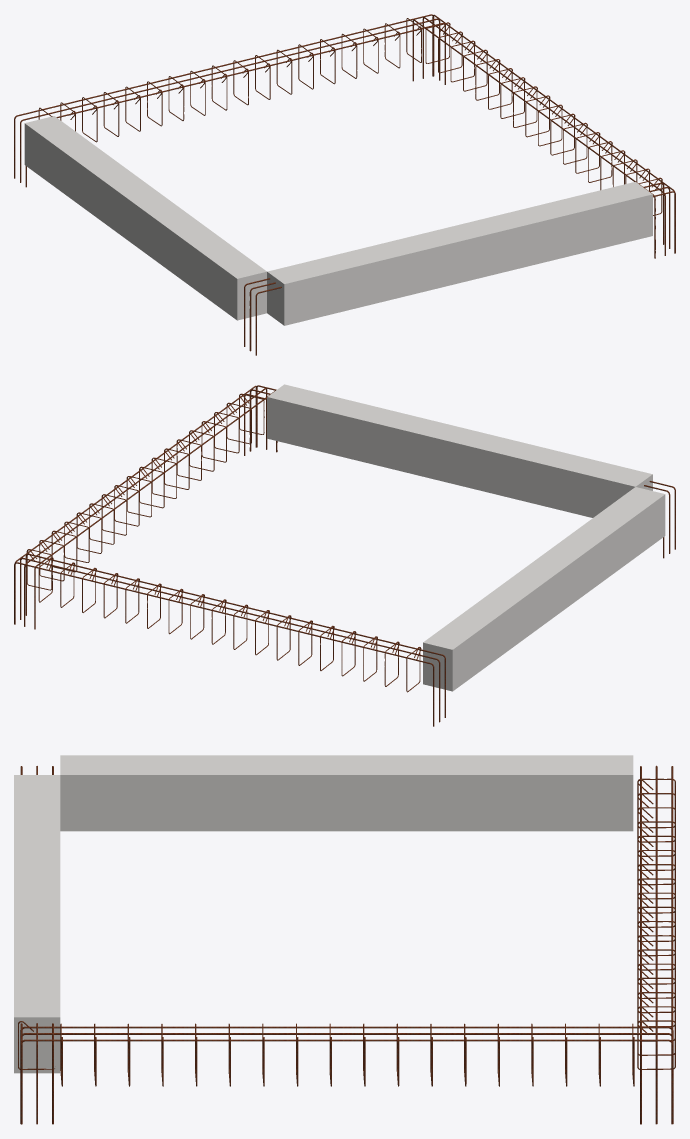
3 views of the same model, one above another, from view 1: azimuth 30°, elevation 25°; view 2: azimuth 150°, elevation 25°; view 3: azimuth 270°, elevation 25° (orthographic). The views are drawn at different scales.
Visible parts, largest first — view 1: Concrete - Rectangular Beam 300 x 400mm [380749]001, Concrete - Rectangular Beam 300 x 400mm [380682]001, Rebar Bar H8 : Shape 52 [388505]_[319274]001, Rebar Bar H8 : Shape 52 [388526]_[319274]001, Rebar Bar H12 : Shape Rebar Shape 2 [388658]_[319274]001, Rebar Bar H12 : Shape Rebar Shape 2 [388745]_[319274]001, Rebar Bar H12 : Shape Rebar Shape 2 [388532]_[319274]001, Rebar Bar H12 : Shape Rebar Shape 2 [388508]_[319274]001, Rebar Bar H12 : Shape Rebar Shape 2 [388509]_[319274]001, Rebar Bar H12 : Shape Rebar Shape 2 [388507]_[319274]001; view 2: Concrete - Rectangular Beam 300 x 400mm [380749]001, Concrete - Rectangular Beam 300 x 400mm [380682]001, Rebar Bar H8 : Shape 52 [388505]_[319274]001, Rebar Bar H8 : Shape 52 [388526]_[319274]001, Rebar Bar H12 : Shape Rebar Shape 2 [388658]_[319274]001, Rebar Bar H12 : Shape Rebar Shape 2 [388532]_[319274]001, Rebar Bar H12 : Shape Rebar Shape 2 [388745]_[319274]001, Rebar Bar H12 : Shape Rebar Shape 2 [388507]_[319274]001, Rebar Bar H12 : Shape Rebar Shape 2 [388508]_[319274]001, Rebar Bar H12 : Shape Rebar Shape 2 [388509]_[319274]001; view 3: Concrete - Rectangular Beam 300 x 400mm [380682]001, Concrete - Rectangular Beam 300 x 400mm [380749]001, Rebar Bar H8 : Shape 52 [388526]_[319274]001, Rebar Bar H8 : Shape 52 [388505]_[319274]001, Rebar Bar H12 : Shape Rebar Shape 2 [388507]_[319274]001, Rebar Bar H12 : Shape Rebar Shape 2 [388509]_[319274]001, Rebar Bar H12 : Shape Rebar Shape 2 [388508]_[319274]001, Rebar Bar H12 : Shape Rebar Shape 2 [388658]_[319274]001, Rebar Bar H12 : Shape Rebar Shape 2 [388745]_[319274]001, Rebar Bar H12 : Shape Rebar Shape 2 [388532]_[319274]001.
Boxes of the visible parts, x1=… form: Concrete - Rectangular Beam 300 x 400mm [380749]001: x1=267, y1=182, x2=652, y2=325; Concrete - Rectangular Beam 300 x 400mm [380682]001: x1=24, y1=116, x2=266, y2=320; Rebar Bar H8 : Shape 52 [388505]_[319274]001: x1=425, y1=22, x2=662, y2=215; Rebar Bar H8 : Shape 52 [388526]_[319274]001: x1=38, y1=18, x2=421, y2=142; Rebar Bar H12 : Shape Rebar Shape 2 [388658]_[319274]001: x1=20, y1=18, x2=440, y2=182; Rebar Bar H12 : Shape Rebar Shape 2 [388745]_[319274]001: x1=14, y1=14, x2=434, y2=178; Rebar Bar H12 : Shape Rebar Shape 2 [388532]_[319274]001: x1=25, y1=23, x2=445, y2=187; Rebar Bar H12 : Shape Rebar Shape 2 [388508]_[319274]001: x1=422, y1=17, x2=665, y2=255; Rebar Bar H12 : Shape Rebar Shape 2 [388509]_[319274]001: x1=412, y1=19, x2=655, y2=258; Rebar Bar H12 : Shape Rebar Shape 2 [388507]_[319274]001: x1=432, y1=14, x2=675, y2=253; Concrete - Rectangular Beam 300 x 400mm [380749]001: x1=267, y1=384, x2=652, y2=517; Concrete - Rectangular Beam 300 x 400mm [380682]001: x1=423, y1=487, x2=665, y2=691; Rebar Bar H8 : Shape 52 [388505]_[319274]001: x1=26, y1=393, x2=264, y2=590; Rebar Bar H8 : Shape 52 [388526]_[319274]001: x1=38, y1=557, x2=421, y2=692; Rebar Bar H12 : Shape Rebar Shape 2 [388658]_[319274]001: x1=20, y1=557, x2=440, y2=722; Rebar Bar H12 : Shape Rebar Shape 2 [388532]_[319274]001: x1=25, y1=553, x2=445, y2=717; Rebar Bar H12 : Shape Rebar Shape 2 [388745]_[319274]001: x1=14, y1=562, x2=434, y2=726; Rebar Bar H12 : Shape Rebar Shape 2 [388507]_[319274]001: x1=14, y1=385, x2=257, y2=624; Rebar Bar H12 : Shape Rebar Shape 2 [388508]_[319274]001: x1=24, y1=388, x2=267, y2=626; Rebar Bar H12 : Shape Rebar Shape 2 [388509]_[319274]001: x1=34, y1=390, x2=277, y2=629; Concrete - Rectangular Beam 300 x 400mm [380682]001: x1=60, y1=755, x2=633, y2=831; Concrete - Rectangular Beam 300 x 400mm [380749]001: x1=14, y1=775, x2=60, y2=1073; Rebar Bar H8 : Shape 52 [388526]_[319274]001: x1=637, y1=778, x2=675, y2=1069; Rebar Bar H8 : Shape 52 [388505]_[319274]001: x1=60, y1=1023, x2=634, y2=1086; Rebar Bar H12 : Shape Rebar Shape 2 [388507]_[319274]001: x1=20, y1=1039, x2=673, y2=1123; Rebar Bar H12 : Shape Rebar Shape 2 [388509]_[319274]001: x1=20, y1=1026, x2=673, y2=1036; Rebar Bar H12 : Shape Rebar Shape 2 [388508]_[319274]001: x1=20, y1=1033, x2=673, y2=1043; Rebar Bar H12 : Shape Rebar Shape 2 [388658]_[319274]001: x1=655, y1=765, x2=657, y2=1124; Rebar Bar H12 : Shape Rebar Shape 2 [388745]_[319274]001: x1=671, y1=766, x2=673, y2=1124; Rebar Bar H12 : Shape Rebar Shape 2 [388532]_[319274]001: x1=640, y1=766, x2=641, y2=1124.
Bounding box in the file's own units: 4.28 × 0.6435 × 4.28.
Materials: 2 (1 with a texture image).
